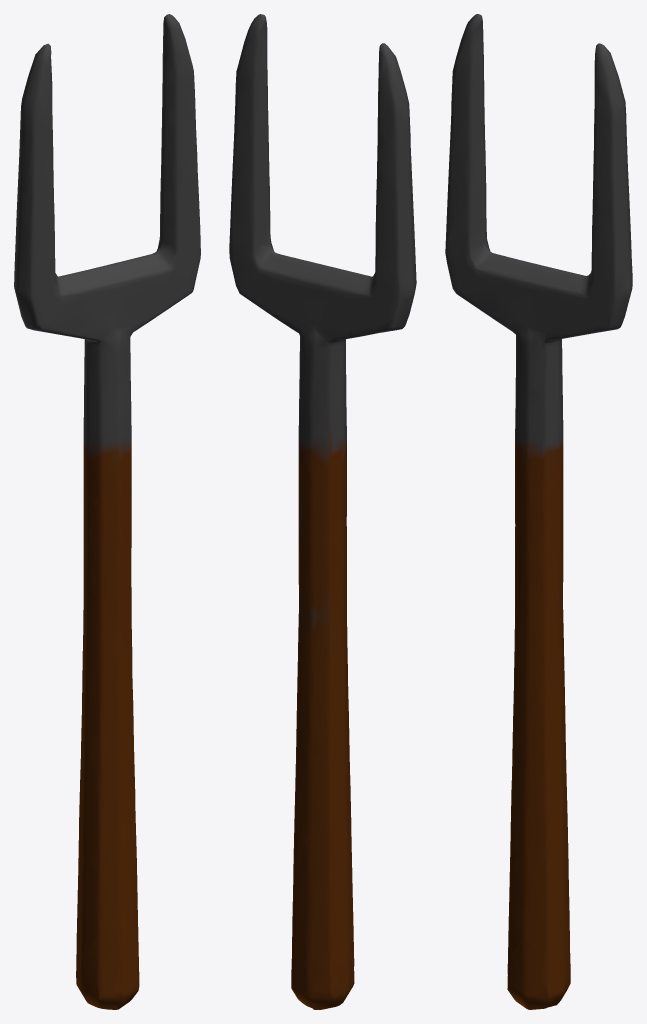
Rendered from gen3d-pitchfork-lod0.glb.
The picture shows the model from 3 angles, left to right: view 1: azimuth 30°, elevation 25°; view 2: azimuth 150°, elevation 25°; view 3: azimuth 330°, elevation 25°; orthographic projection.
Visible parts, largest first — view 1: part_0; view 2: part_0; view 3: part_0.
Part boxes in pixels (x1,y1,x2,y2): part_0: [14, 14, 200, 1009]; part_0: [229, 14, 416, 1009]; part_0: [445, 14, 632, 1009].
Bounding box in the file's own units: 0.1955 × 0.9996 × 0.0567.
